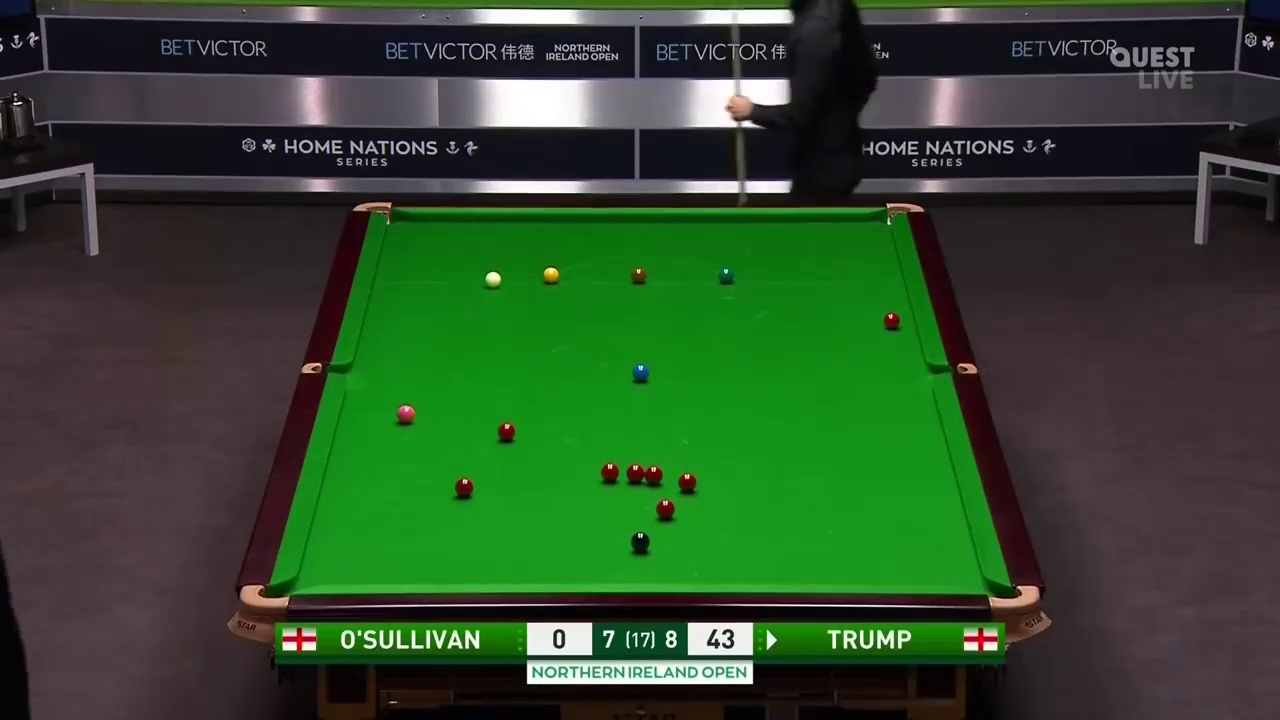black: (631, 534, 651, 552)
blue: (633, 363, 650, 382)
brown: (631, 267, 647, 283)
green: (719, 268, 734, 282)
pink: (396, 406, 416, 424)
red: (454, 479, 474, 499), (602, 462, 618, 486), (657, 498, 675, 519), (679, 471, 695, 492), (884, 311, 901, 329), (498, 424, 516, 441), (647, 465, 662, 484)
white: (483, 268, 504, 288)
yellow: (541, 264, 559, 281)
